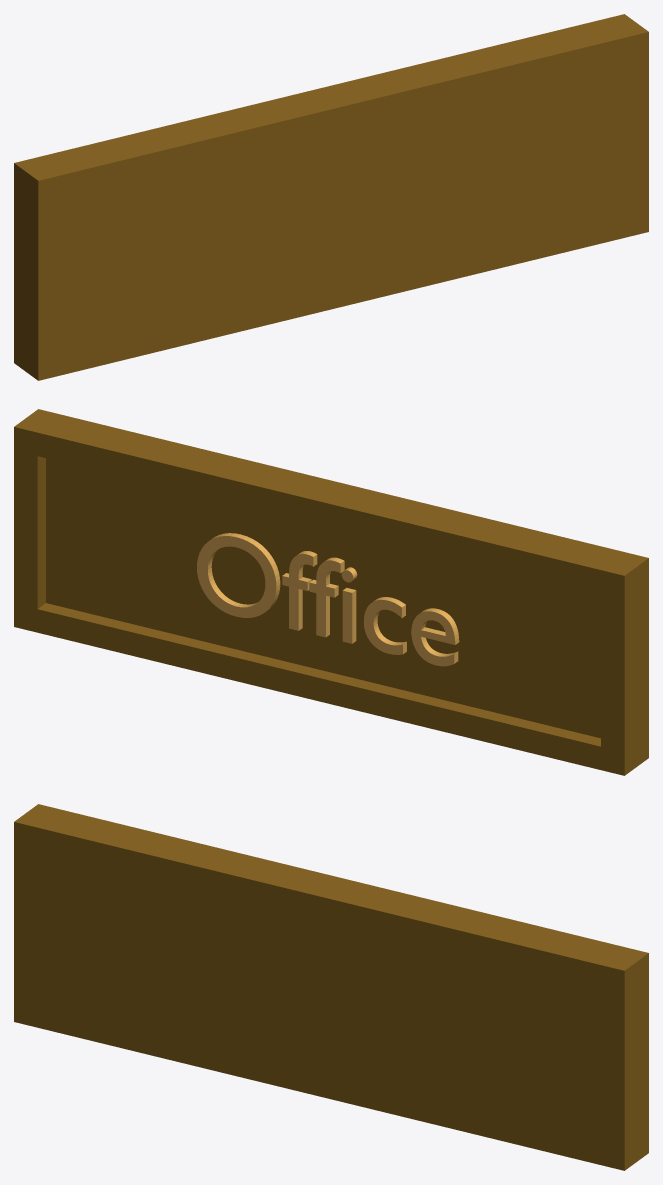
File: O_Sign.fbx
3 views of the same model, one above another, from view 1: azimuth 30°, elevation 25°; view 2: azimuth 150°, elevation 25°; view 3: azimuth 330°, elevation 25° (orthographic).
Parts seen in each view (by area): view 1: office_Sign; view 2: office_Sign; view 3: office_Sign.
Boxes of the visible parts, x1,y1,x2,y2 form: office_Sign: (14, 14, 648, 380); office_Sign: (14, 409, 648, 775); office_Sign: (14, 804, 648, 1170).
Size of the model in its own units: 984 by 308 by 68.12.
